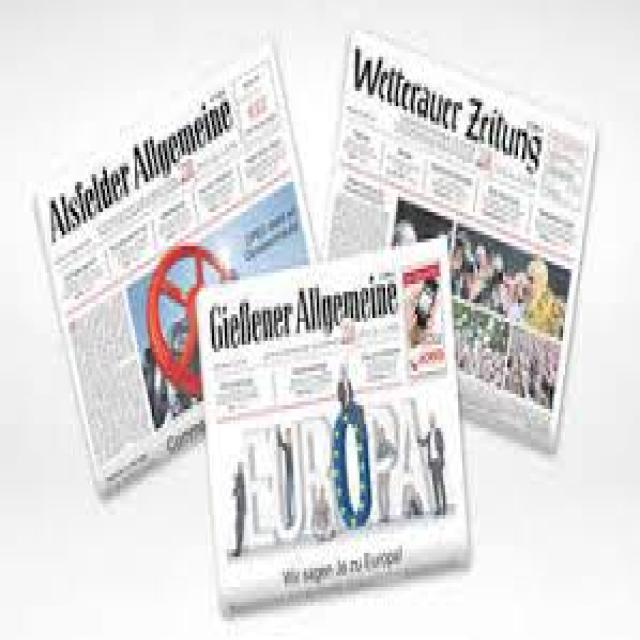paper: (32, 180, 470, 573), (357, 34, 570, 438), (72, 147, 318, 446)
